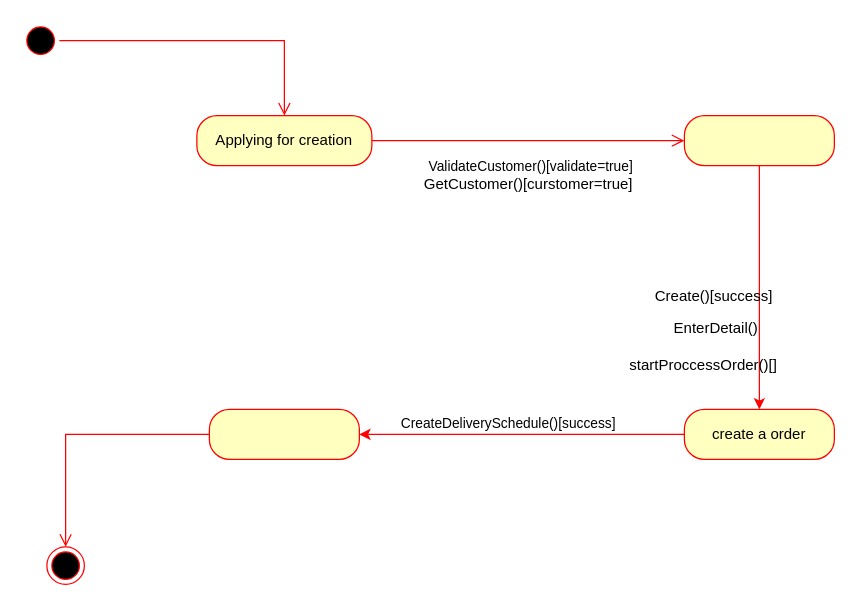
Some shapes in this 856 by 606 pixel diagram are drawn without their labels. The shapes that lost their labels are listed below. From the top down, each one's centre as x and y in pixels, then its label:
At point 758,140: "accept".
At point 283,433: "create a delivery schedule".
